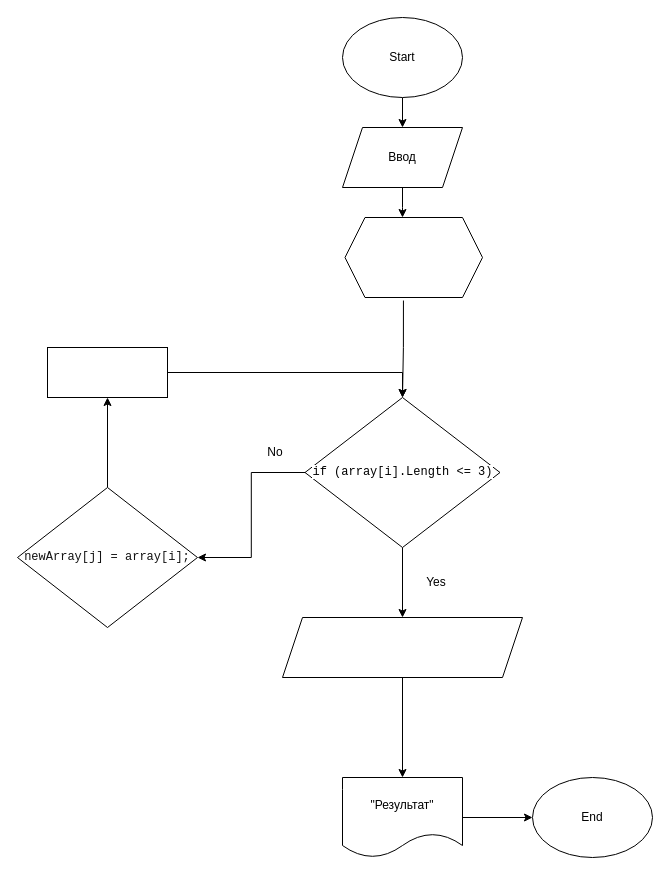
Image size: 670x875. Some labels were removed from this diagram. The centre of each missing label's shape, as x and y in pixels:
"Array.Resize( ref newArray , j )" belongs at (402,647).
"I =0; i < array ; i++" belongs at (413,257).
"j ++;" belongs at (107,372).
